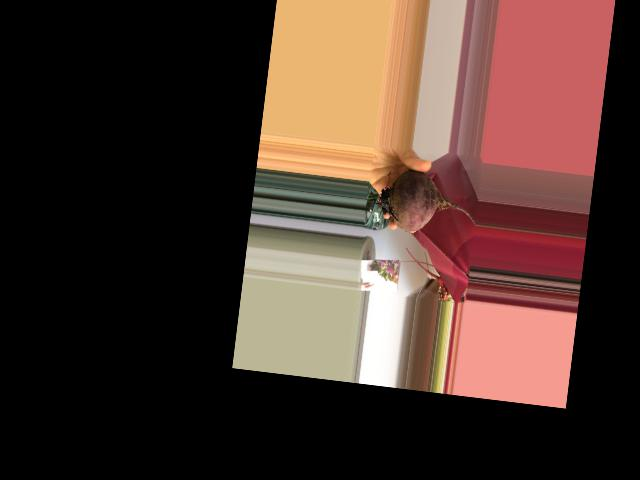beet: (363, 165, 480, 239)
